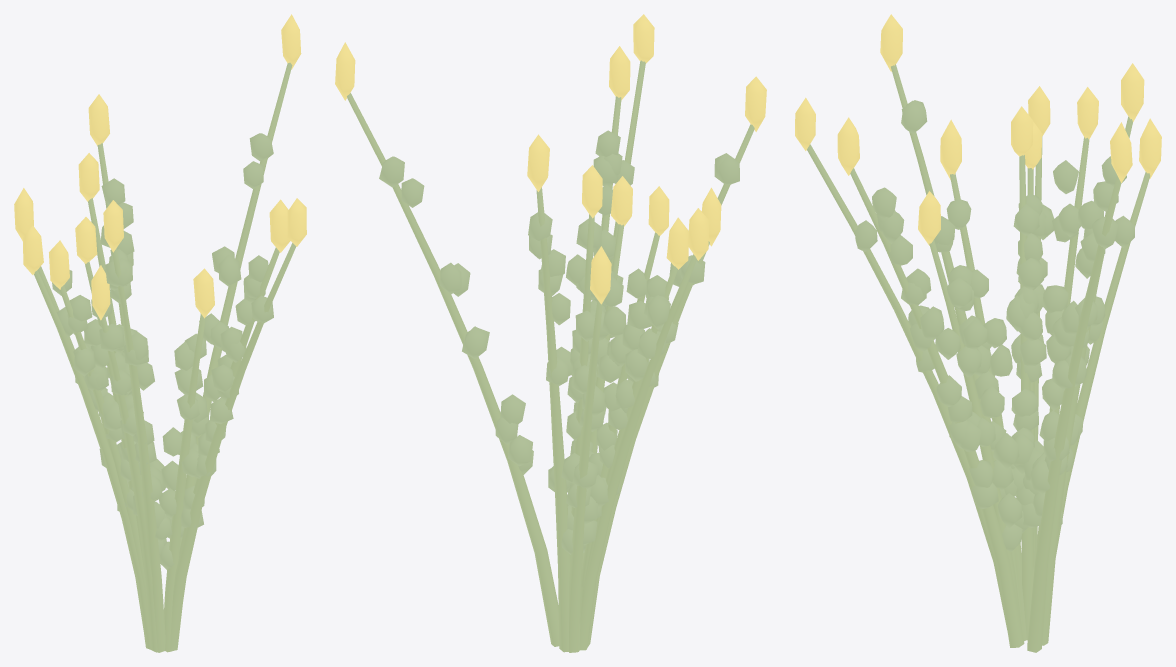
Rendered from Blender_Ocotillo_2.glb.
The picture shows the model from 3 angles, left to right: view 1: azimuth 30°, elevation 25°; view 2: azimuth 150°, elevation 25°; view 3: azimuth 270°, elevation 25°; orthographic projection. The views are drawn at different scales.
Visible parts, largest first — view 1: Blender_Ocotillo_2; view 2: Blender_Ocotillo_2; view 3: Blender_Ocotillo_2.
Part boxes in pixels (x1,y1,x2,y2): Blender_Ocotillo_2: (14, 14, 306, 652); Blender_Ocotillo_2: (335, 14, 766, 652); Blender_Ocotillo_2: (795, 14, 1161, 652).
Size of the model in its own units: 2.19 by 3.73 by 2.02.
